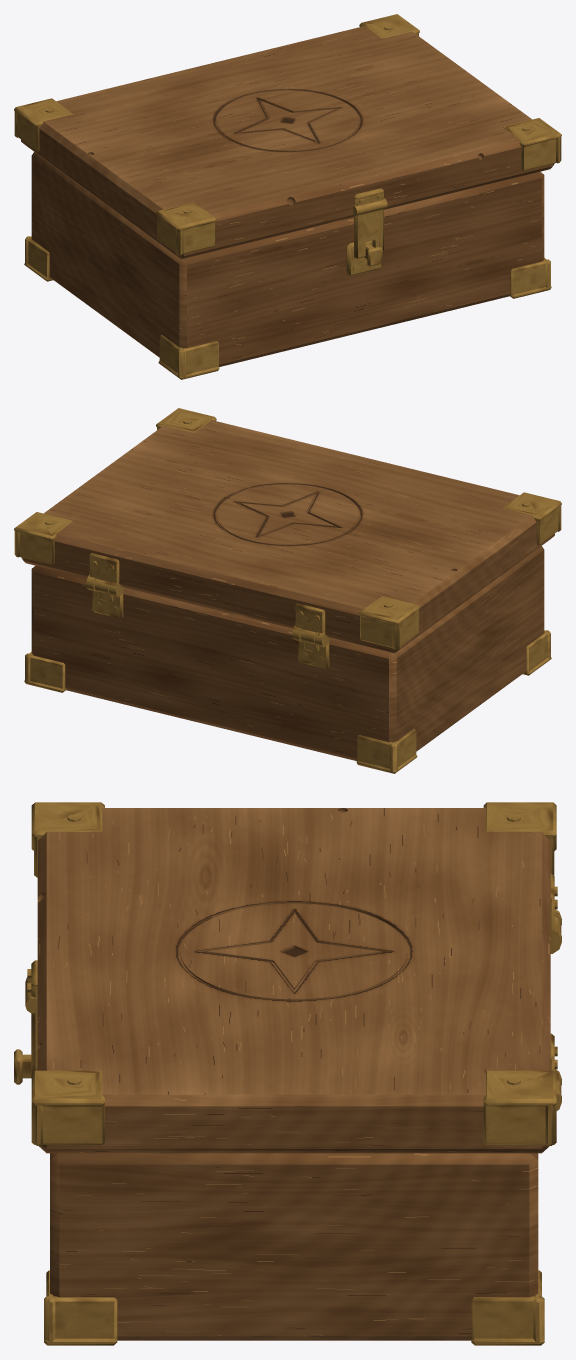
File: card_box.glb
The picture shows the model from 3 angles, top to bottom: view 1: azimuth 30°, elevation 25°; view 2: azimuth 150°, elevation 25°; view 3: azimuth 270°, elevation 25°; orthographic projection. The views are drawn at different scales.
Parts seen in each view (by area): view 1: Hinged_Oak_Lid, Oak_Box_Base; view 2: Hinged_Oak_Lid, Oak_Box_Base; view 3: Hinged_Oak_Lid, Oak_Box_Base.
Part boxes in pixels (left/top/right/bottom): Hinged_Oak_Lid: left=14, top=14, right=561, bottom=259; Oak_Box_Base: left=24, top=152, right=551, bottom=379; Hinged_Oak_Lid: left=14, top=408, right=561, bottom=653; Oak_Box_Base: left=24, top=546, right=551, bottom=773; Hinged_Oak_Lid: left=25, top=802, right=561, bottom=1153; Oak_Box_Base: left=14, top=916, right=561, bottom=1345.
Size of the model in its own units: 0.116 by 0.0459 by 0.0898.
2 materials, 2 textured.
